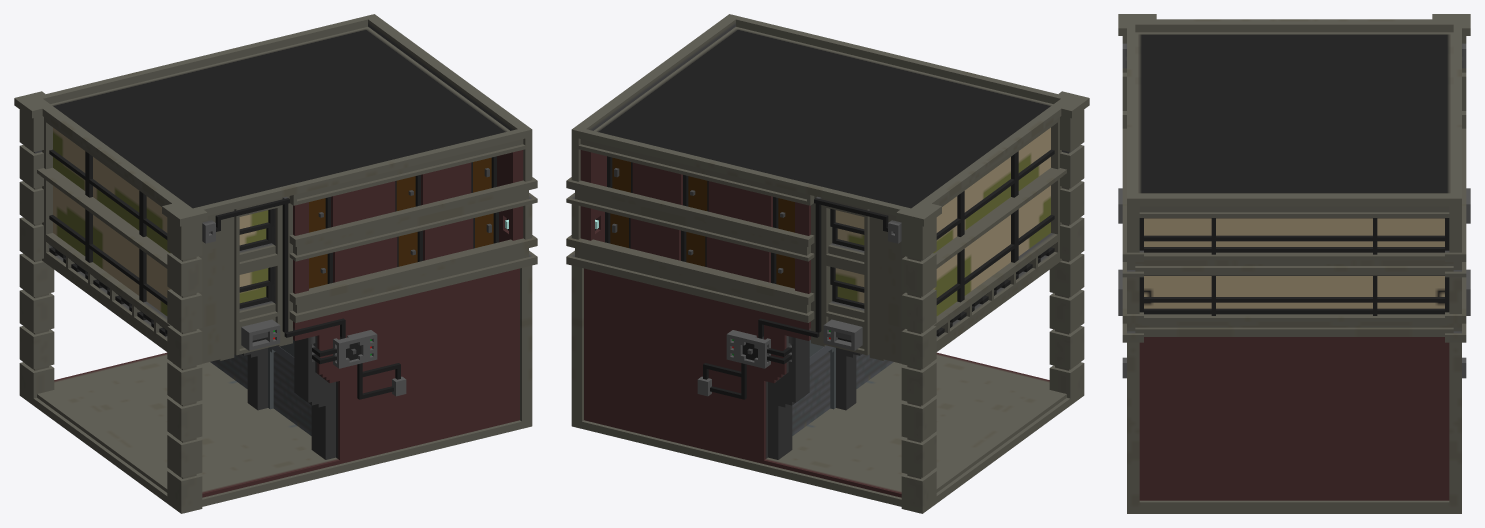
Rendered from residentialBuilding_06.fbx.
3 views of the same model, side by side, from view 1: azimuth 30°, elevation 25°; view 2: azimuth 150°, elevation 25°; view 3: azimuth 270°, elevation 25° (orthographic). The views are drawn at different scales.
Visible parts, largest first — view 1: building_06; view 2: building_06; view 3: building_06.
Boxes of the visible parts, box(x1,y1,x2,y2) form: building_06: box(14, 14, 537, 513); building_06: box(566, 14, 1089, 513); building_06: box(1118, 14, 1470, 513).
Size of the model in its own units: 104 by 82 by 83.
1 material, 1 textured.
